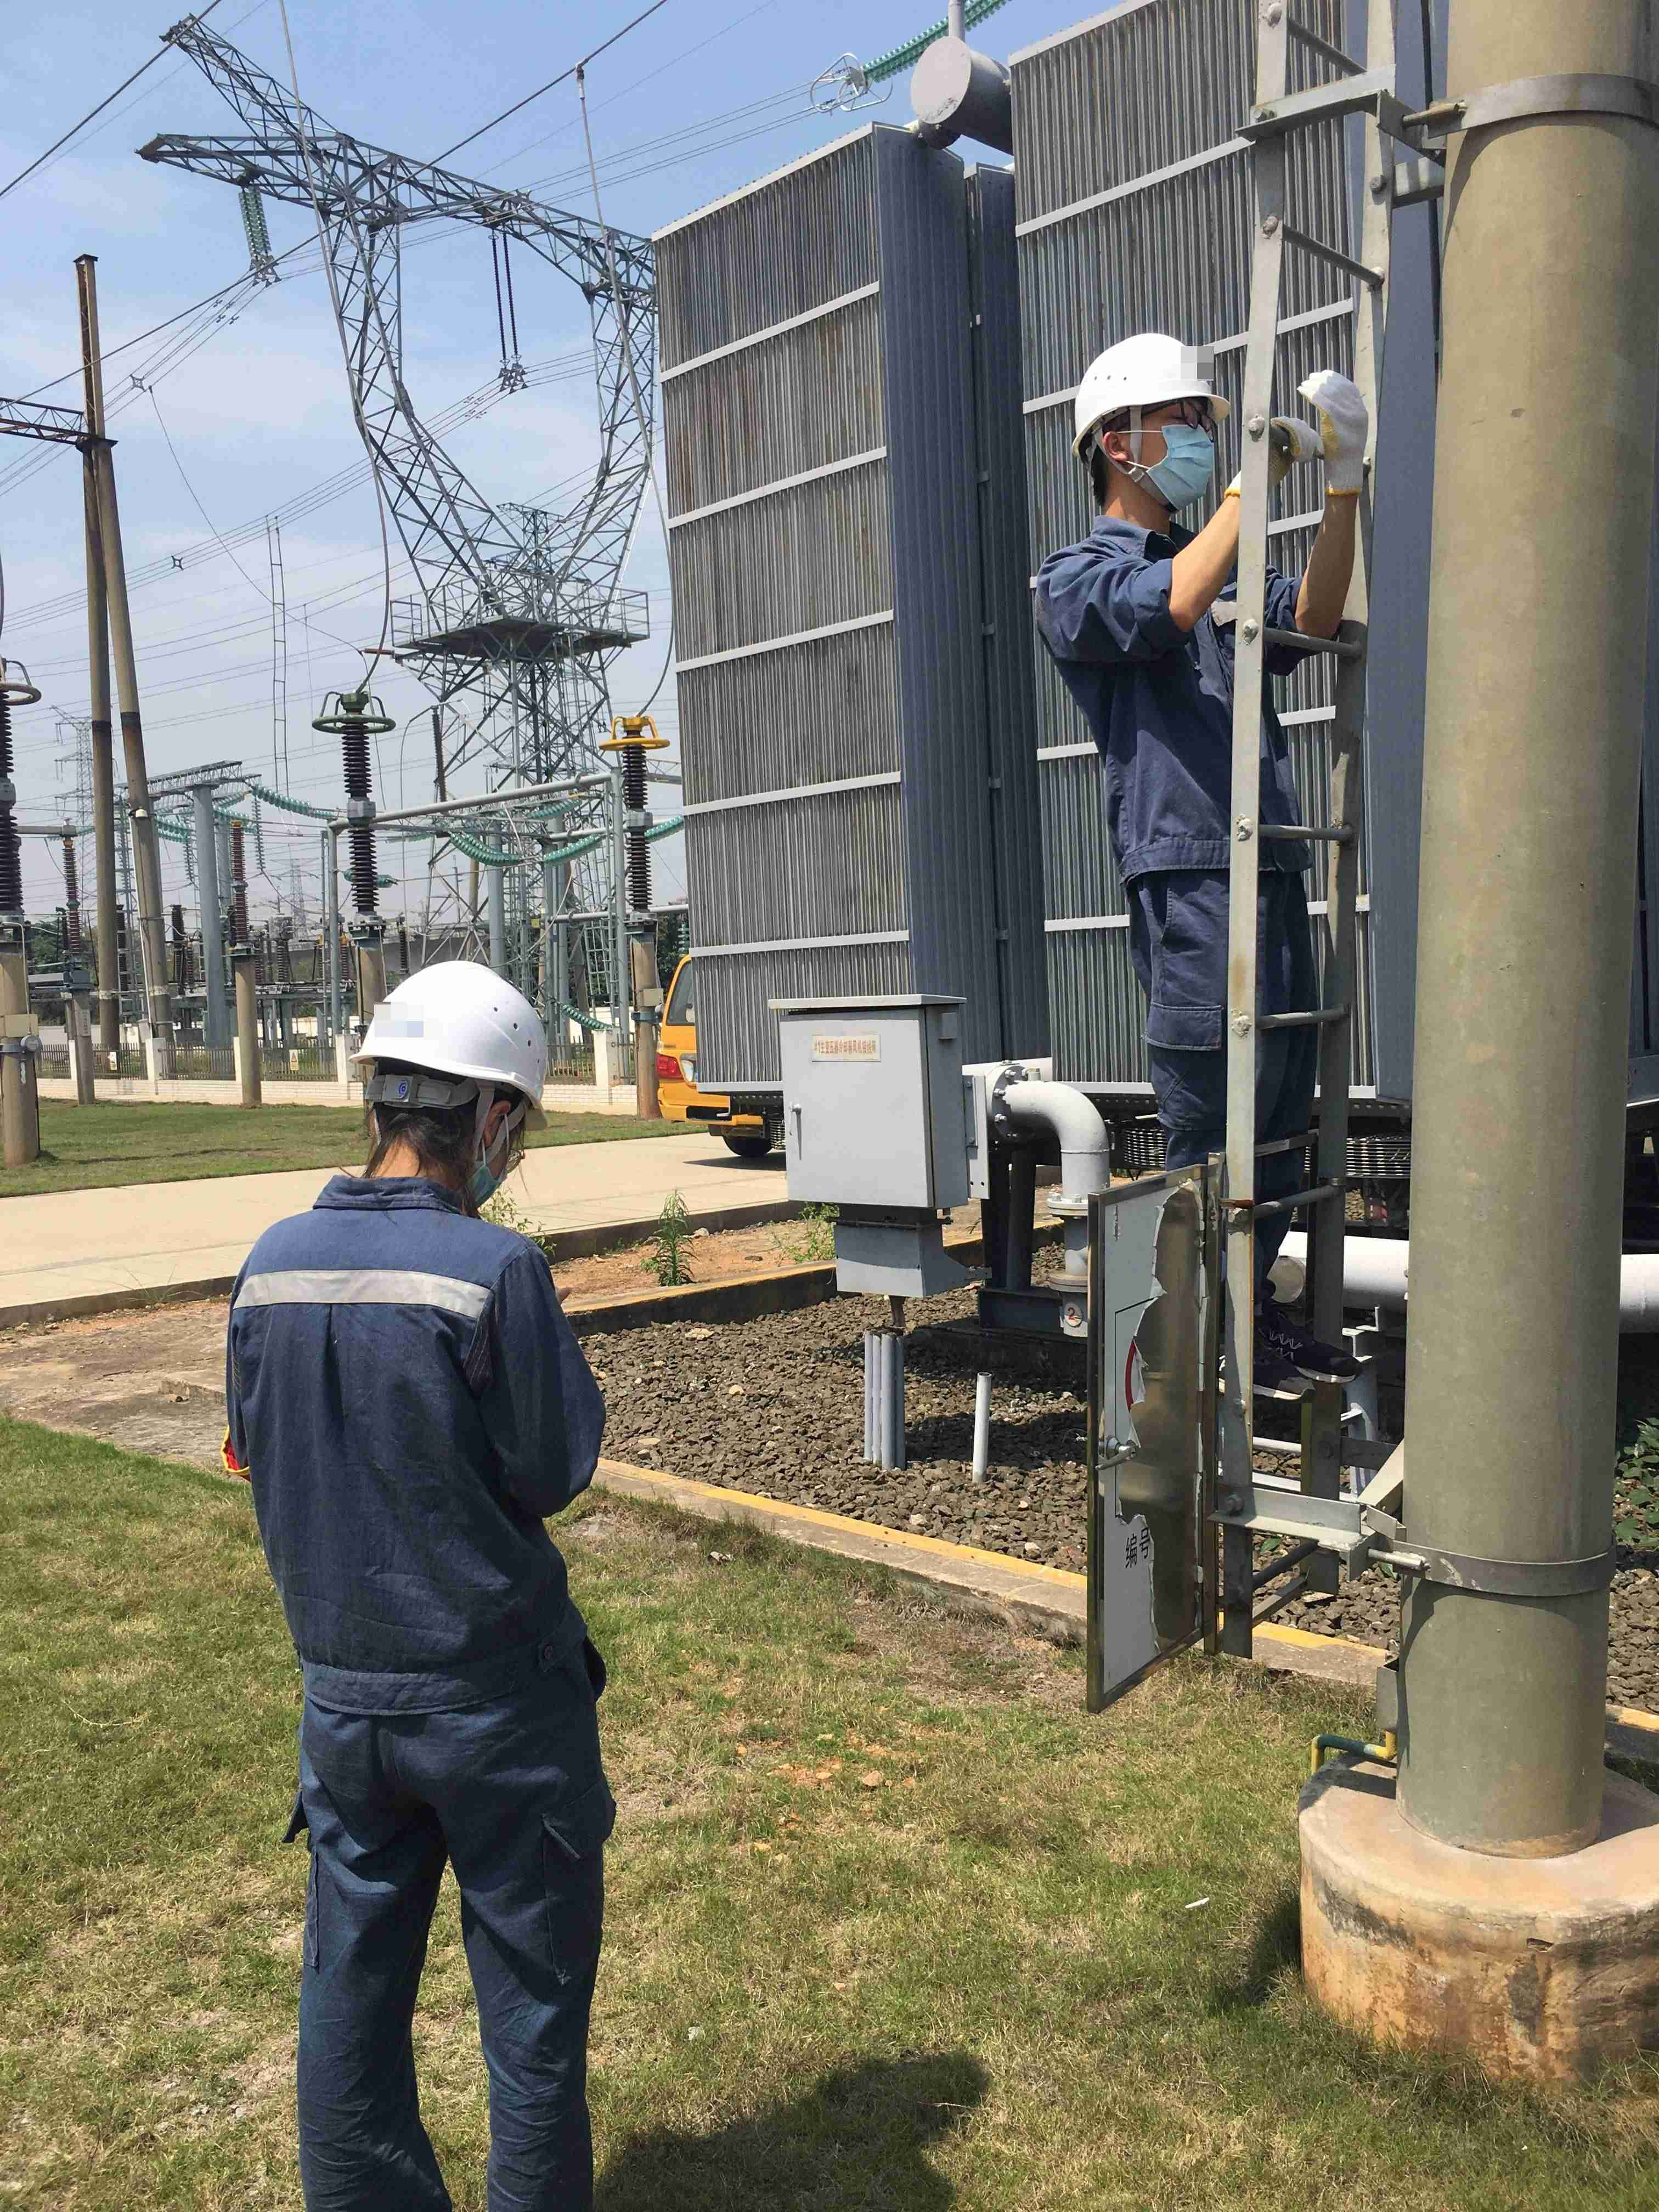downsuit: (281, 1691, 619, 2212), (1115, 876, 1338, 1155)
upsuit: (221, 1179, 608, 1719), (1035, 509, 1305, 878)
wrongtop: (1127, 475, 1241, 657), (1263, 493, 1358, 672)
